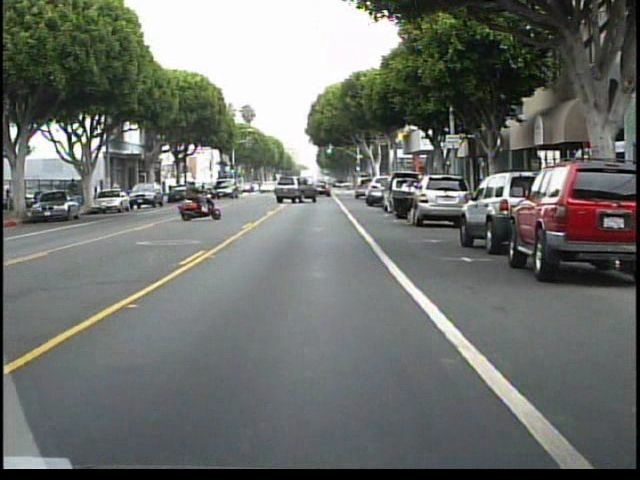person: (398, 171, 422, 230), (173, 176, 201, 217), (66, 174, 83, 211)
